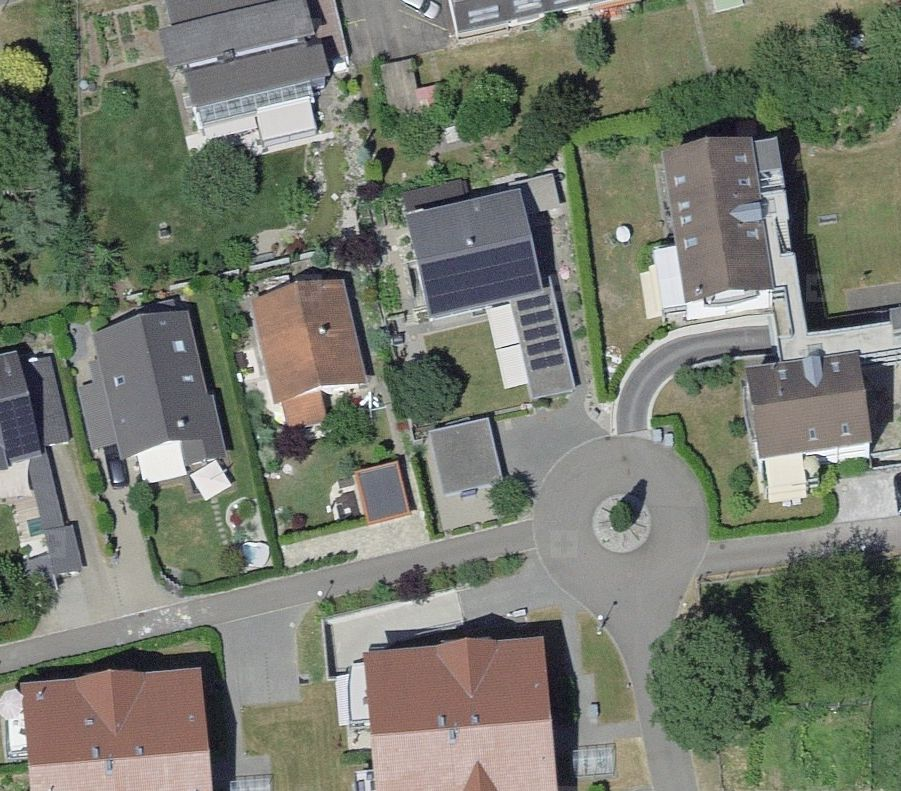solar: (416, 240, 557, 313), (518, 310, 567, 371), (1, 397, 43, 459)
